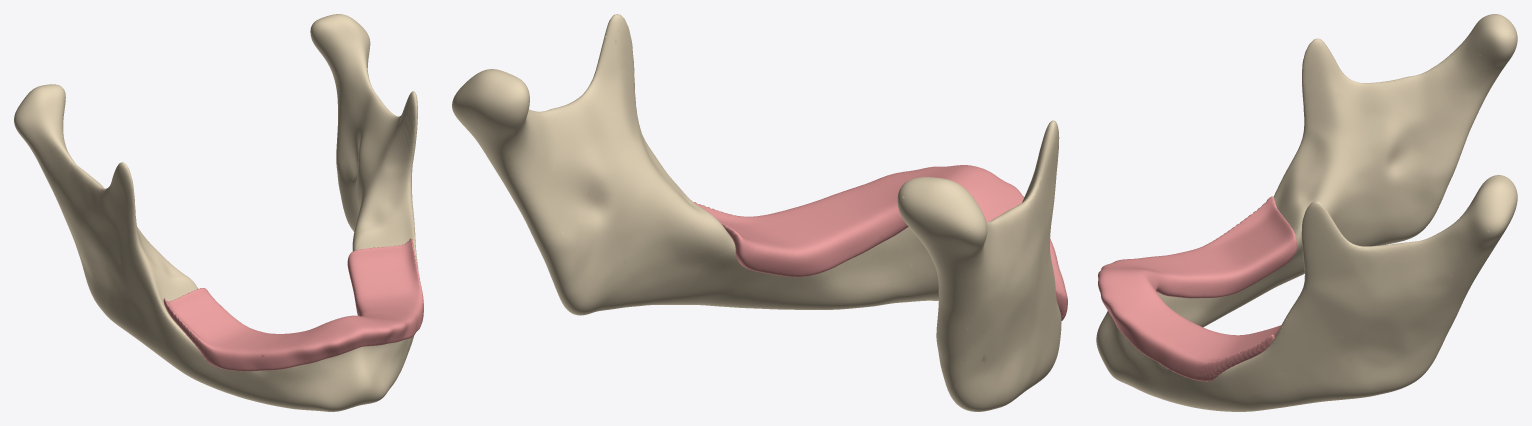
The model's file is edentulous-whole.glb.
3 renders of one model, left to right at view 1: azimuth 30°, elevation 25°; view 2: azimuth 150°, elevation 25°; view 3: azimuth 270°, elevation 25°, orthographic. The views are drawn at different scales.
Parts seen in each view (by area): view 1: bone, gum; view 2: bone, gum; view 3: bone, gum.
Boxes of the visible parts, bbox=[...] form: bone: bbox=[14, 14, 418, 411]; gum: bbox=[163, 238, 423, 371]; bone: bbox=[452, 14, 1061, 411]; gum: bbox=[694, 165, 1067, 321]; bone: bbox=[1096, 14, 1517, 411]; gum: bbox=[1098, 196, 1296, 381].
Size of the model in its own units: 106 by 67.96 by 95.44.
